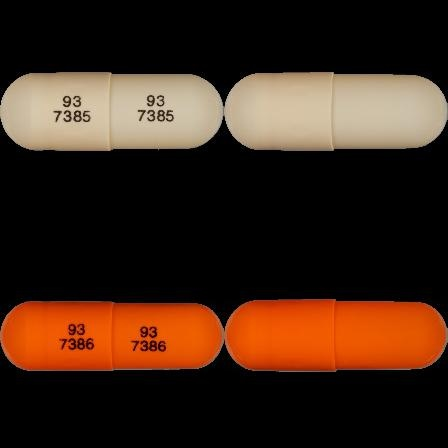0615-7621: (0, 0, 224, 224)
